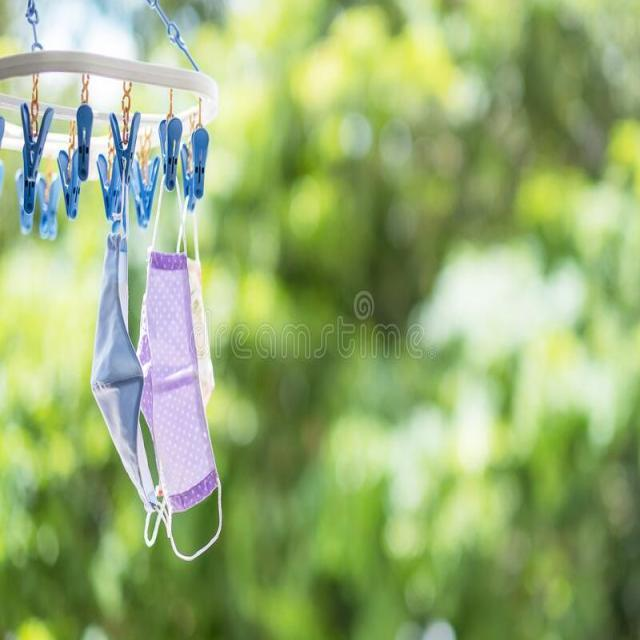clothes: (82, 236, 216, 570)
